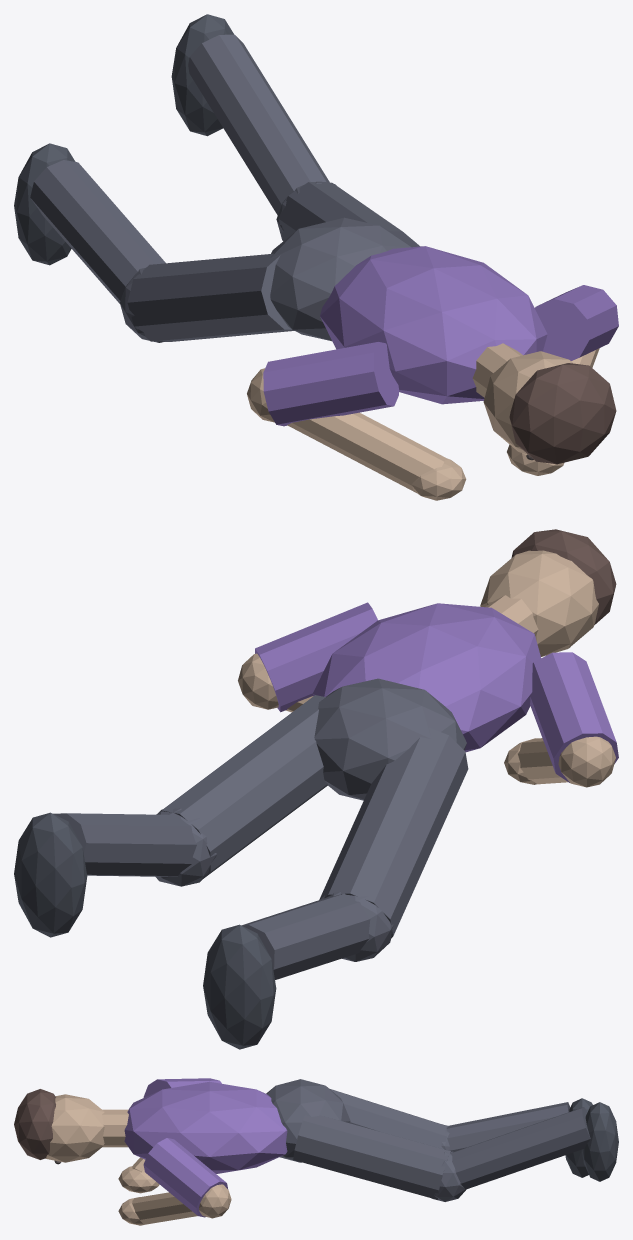
3 renders of one model, top to bottom at view 1: azimuth 30°, elevation 25°; view 2: azimuth 150°, elevation 25°; view 3: azimuth 270°, elevation 25°, orthographic. The views are drawn at different scales.
Parts seen in each view (by area): view 1: world; view 2: world; view 3: world.
Boxes of the visible parts, x1,y1,x2,y2 form: world: (14,14,618,500); world: (14,529,618,1049); world: (14,1078,618,1225).
Size of the model in its own units: 0.93 by 0.4905 by 2.06.
